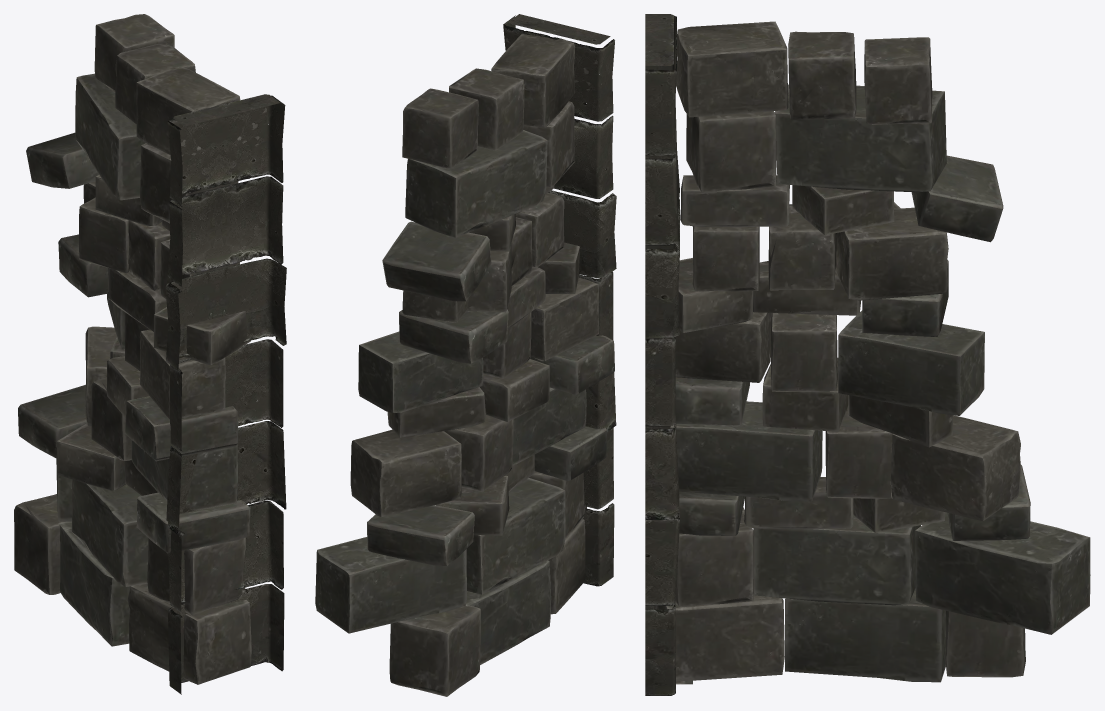
3 views of the same model, side by side, from view 1: azimuth 30°, elevation 25°; view 2: azimuth 150°, elevation 25°; view 3: azimuth 270°, elevation 25° (orthographic). The views are drawn at different scales.
Visible parts, largest first — view 1: SM_Greathall_Wall_8x10_Broken_03_LOD0; view 2: SM_Greathall_Wall_8x10_Broken_03_LOD0; view 3: SM_Greathall_Wall_8x10_Broken_03_LOD0.
Boxes of the visible parts, x1=… form: SM_Greathall_Wall_8x10_Broken_03_LOD0: x1=14, y1=14, x2=286, y2=694; SM_Greathall_Wall_8x10_Broken_03_LOD0: x1=315, y1=14, x2=616, y2=696; SM_Greathall_Wall_8x10_Broken_03_LOD0: x1=645, y1=14, x2=1090, y2=695.
Size of the model in its own units: 2.66 by 10 by 6.39.
Materials: 2 (2 with a texture image).
